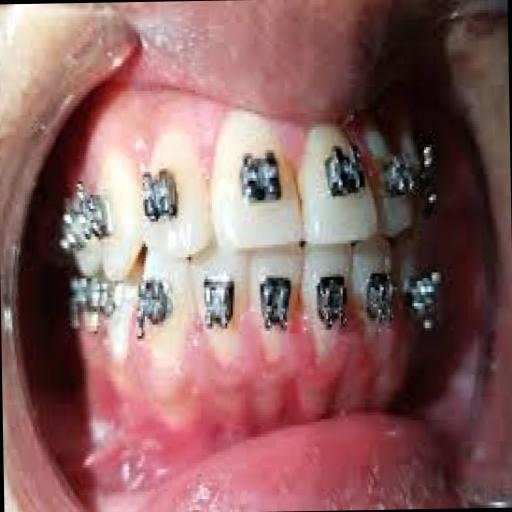correct_brace: (320, 138, 370, 217), (256, 264, 298, 346), (140, 158, 184, 232), (232, 145, 284, 207), (202, 264, 242, 339), (134, 272, 172, 346), (312, 270, 350, 338)
incorrect_brace: (208, 109, 302, 260), (191, 244, 253, 380)
